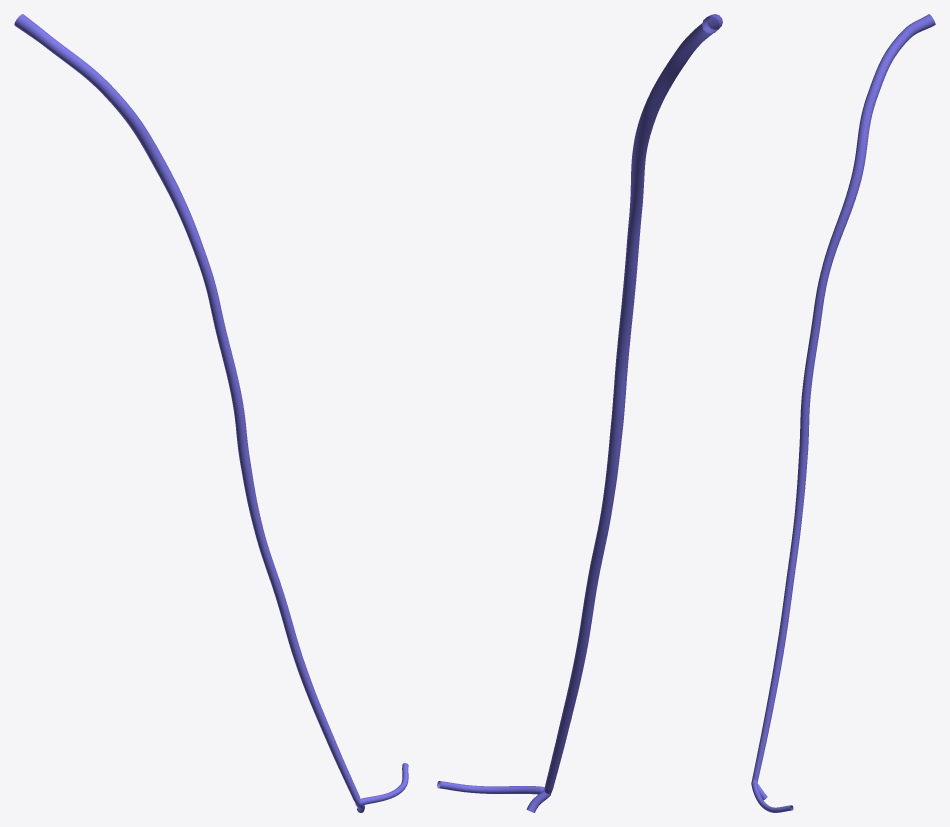
Rendered from Median_antebrachial_vein.l_BezierCurve.298.glb.
3 views of the same model, side by side, from view 1: azimuth 30°, elevation 25°; view 2: azimuth 150°, elevation 25°; view 3: azimuth 270°, elevation 25° (orthographic). The views are drawn at different scales.
Parts seen in each view (by area): view 1: Median_antebrachial_vein.l_BezierCurve.298; view 2: Median_antebrachial_vein.l_BezierCurve.298; view 3: Median_antebrachial_vein.l_BezierCurve.298.
Part boxes in pixels (left/top/right/bottom): Median_antebrachial_vein.l_BezierCurve.298: left=14, top=14, right=408, bottom=812; Median_antebrachial_vein.l_BezierCurve.298: left=437, top=14, right=722, bottom=812; Median_antebrachial_vein.l_BezierCurve.298: left=751, top=14, right=935, bottom=812.
Size of the model in its own units: 0.0866 by 0.2079 by 0.0509.
